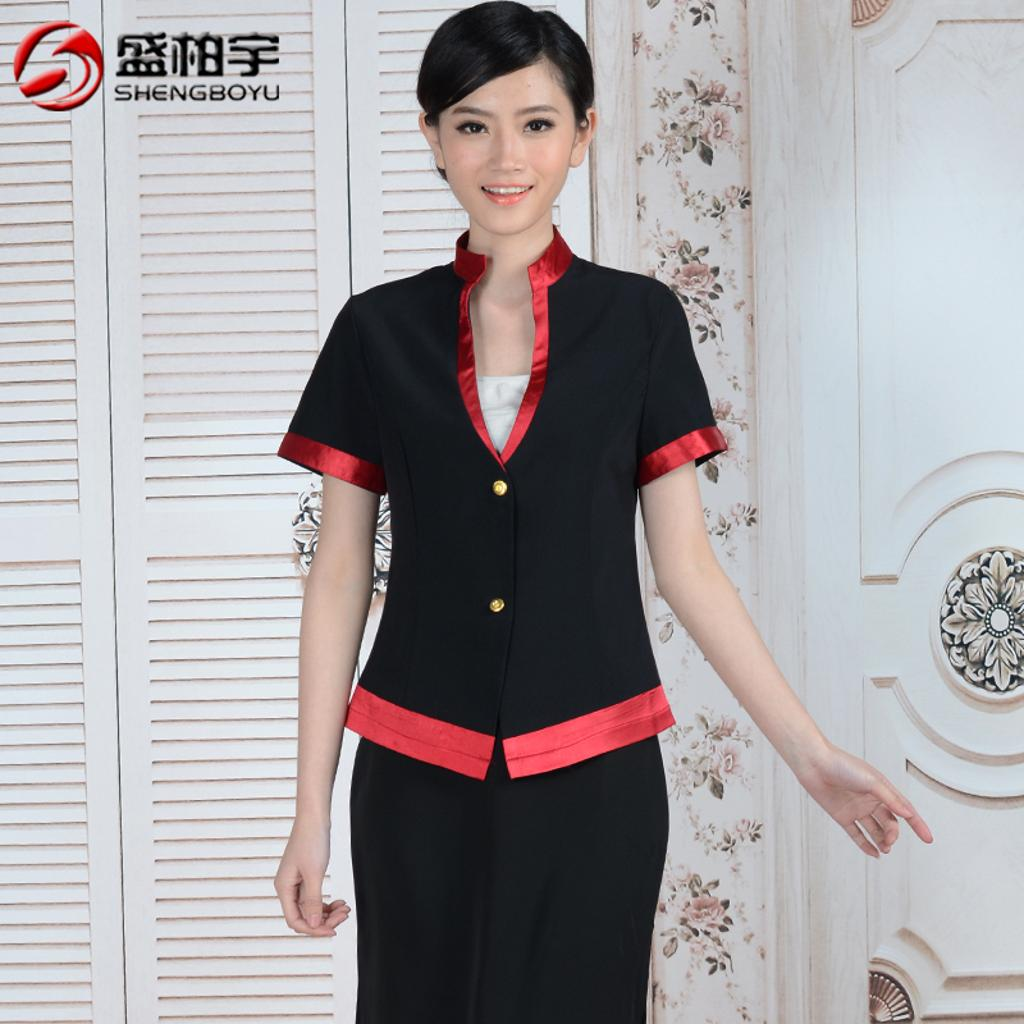face: (440, 58, 574, 230)
